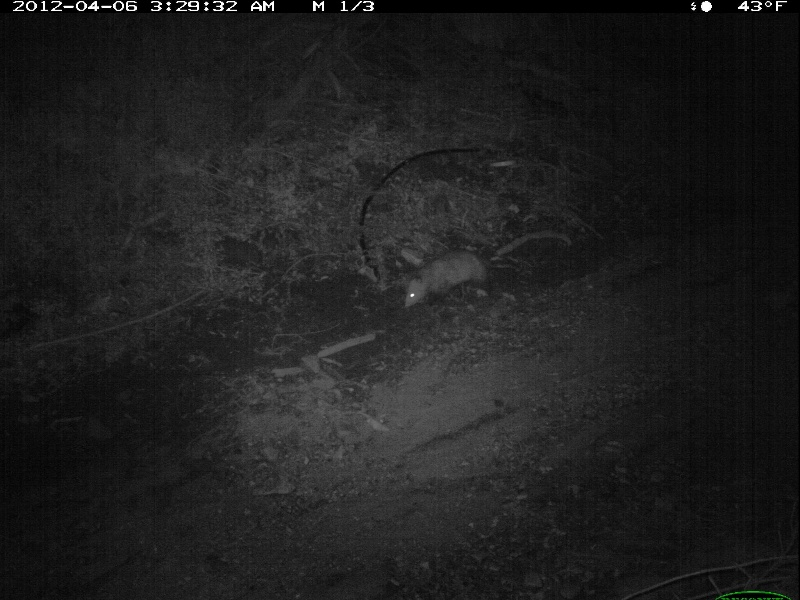opossum: (402, 249, 524, 309)
